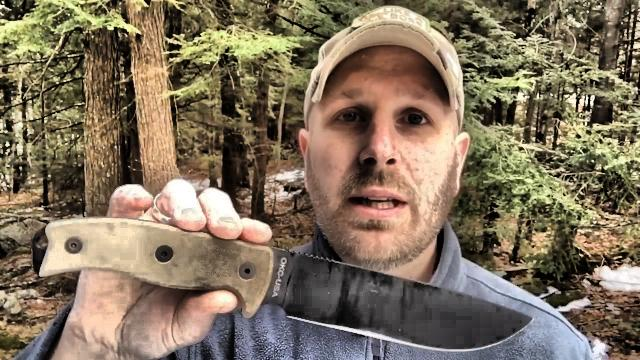knife: (199, 180, 535, 352)
